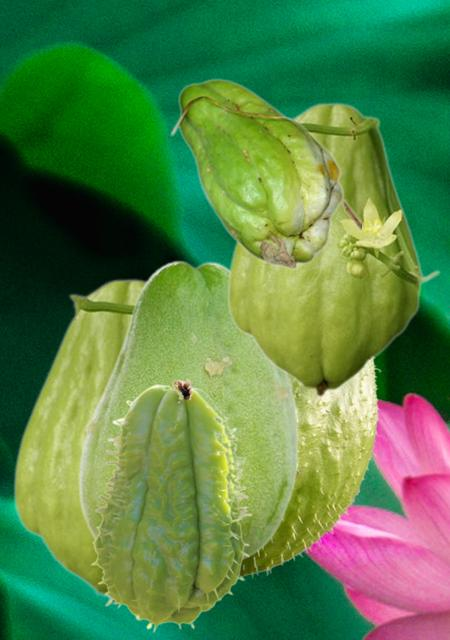sayote: (77, 259, 298, 562), (226, 102, 440, 397), (12, 278, 145, 601), (90, 378, 251, 632), (169, 78, 360, 269), (240, 359, 380, 579)
